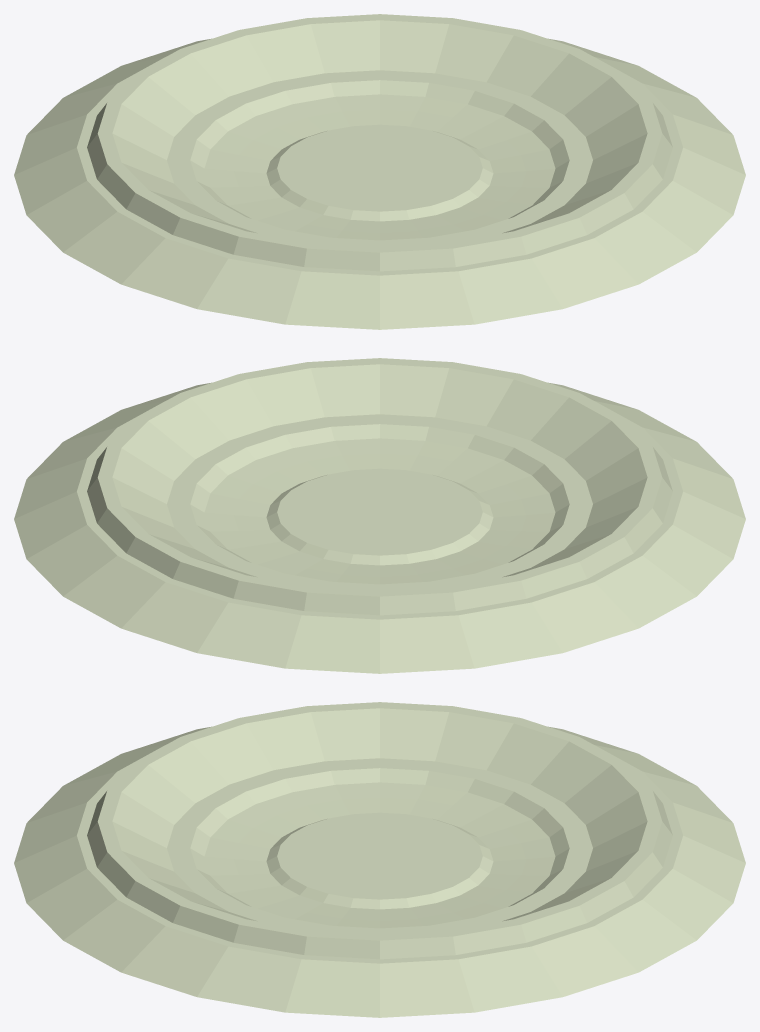
The model's file is base_holo_low.fbx.
3 renders of one model, top to bottom at view 1: azimuth 30°, elevation 25°; view 2: azimuth 150°, elevation 25°; view 3: azimuth 270°, elevation 25°, orthographic.
Visible parts, largest first — view 1: base_holo_low; view 2: base_holo_low; view 3: base_holo_low.
Boxes of the visible parts, left/top/right/bottom form: base_holo_low: left=14, top=14, right=745, bottom=329; base_holo_low: left=14, top=358, right=745, bottom=673; base_holo_low: left=14, top=702, right=745, bottom=1017.
Size of the model in its own units: 1424 by 89.88 by 1424.
